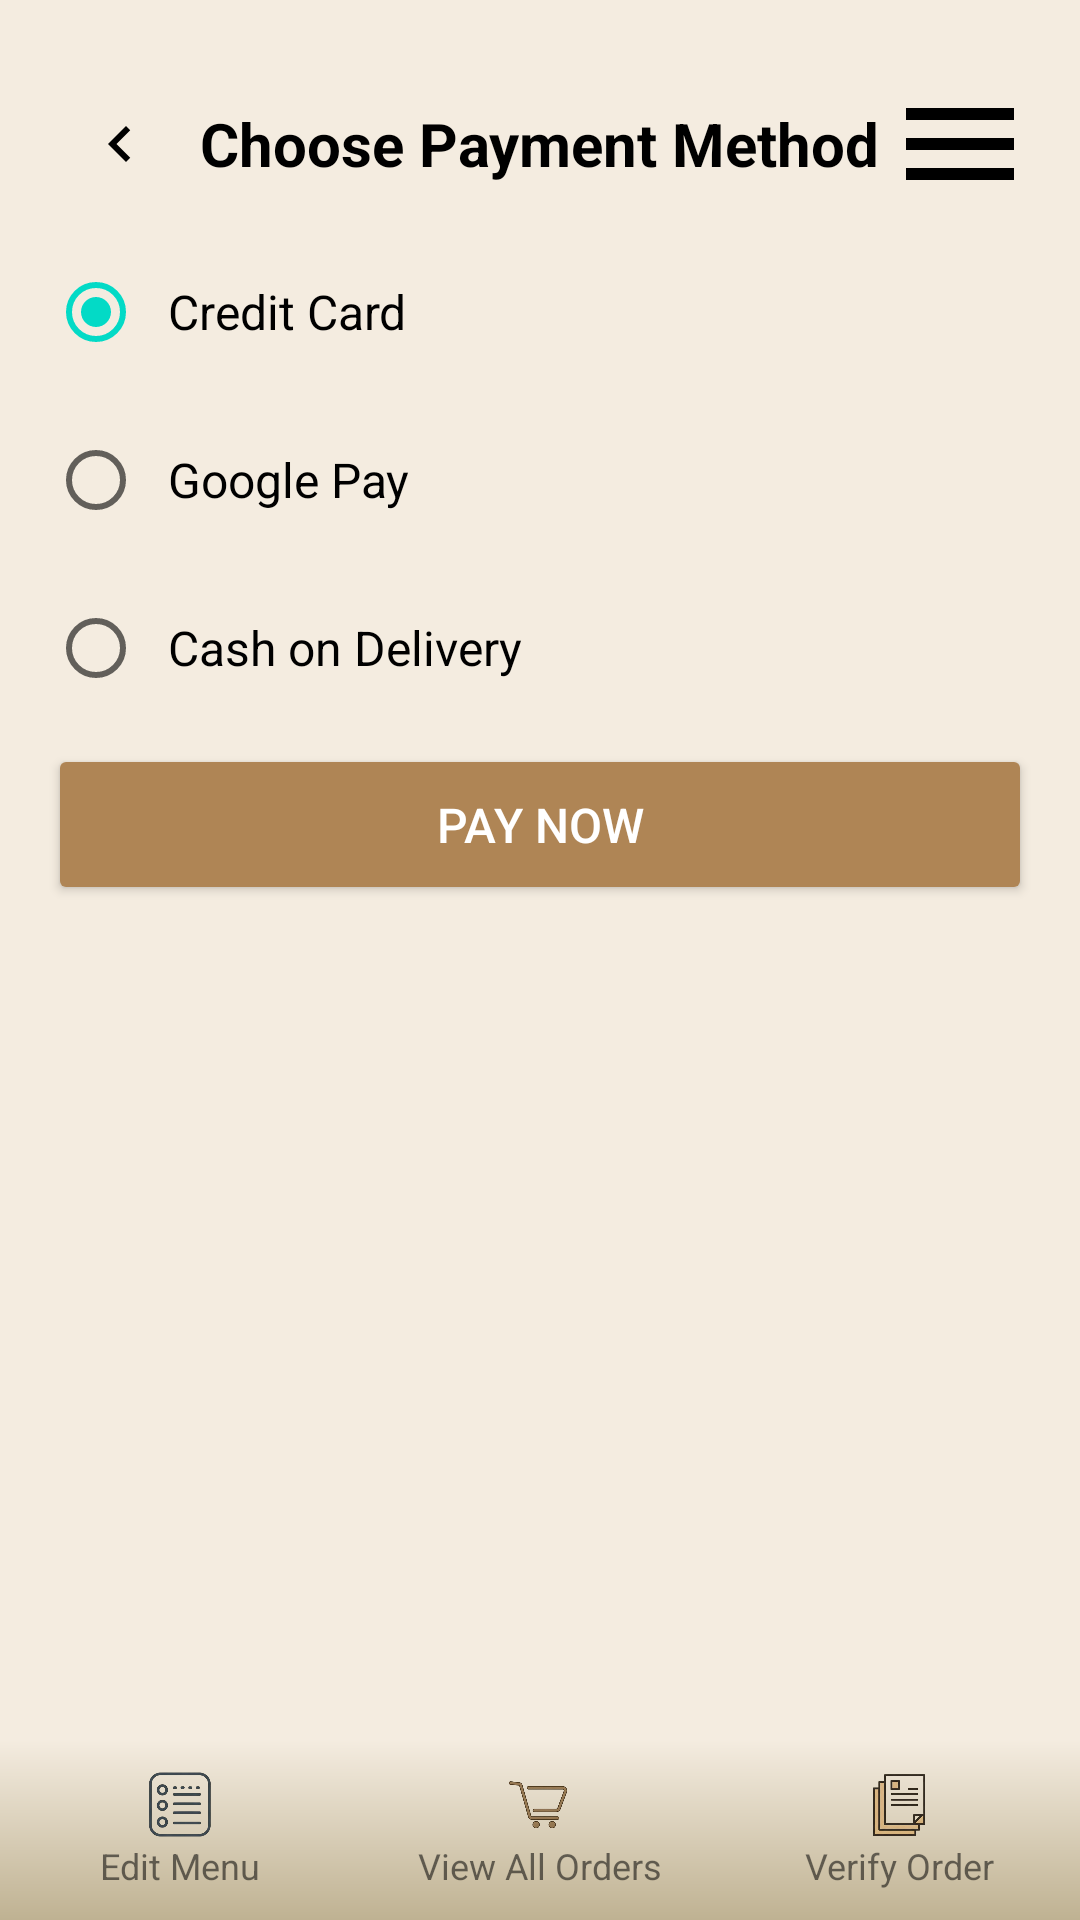

Icons on this 1080x1920 Android screen, each with its box as (x1,y1,x2,y2):
Back: (108,126,130,162)
cart: (504,1781,576,1841)
